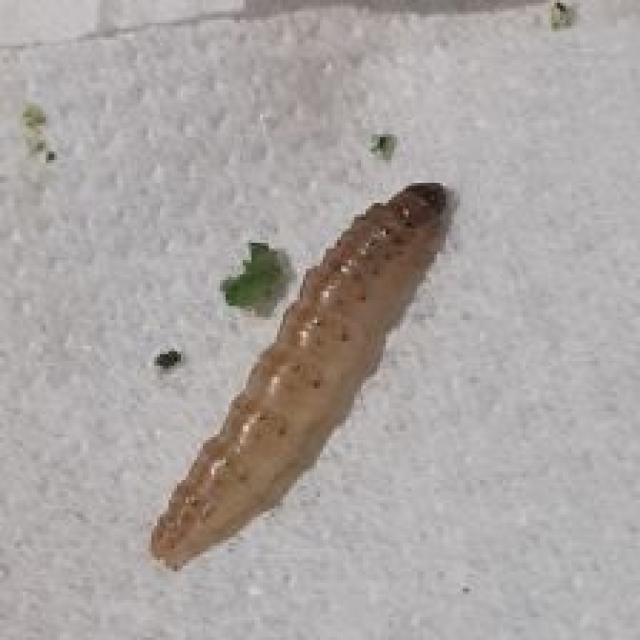white mucus: (121, 152, 453, 574)
